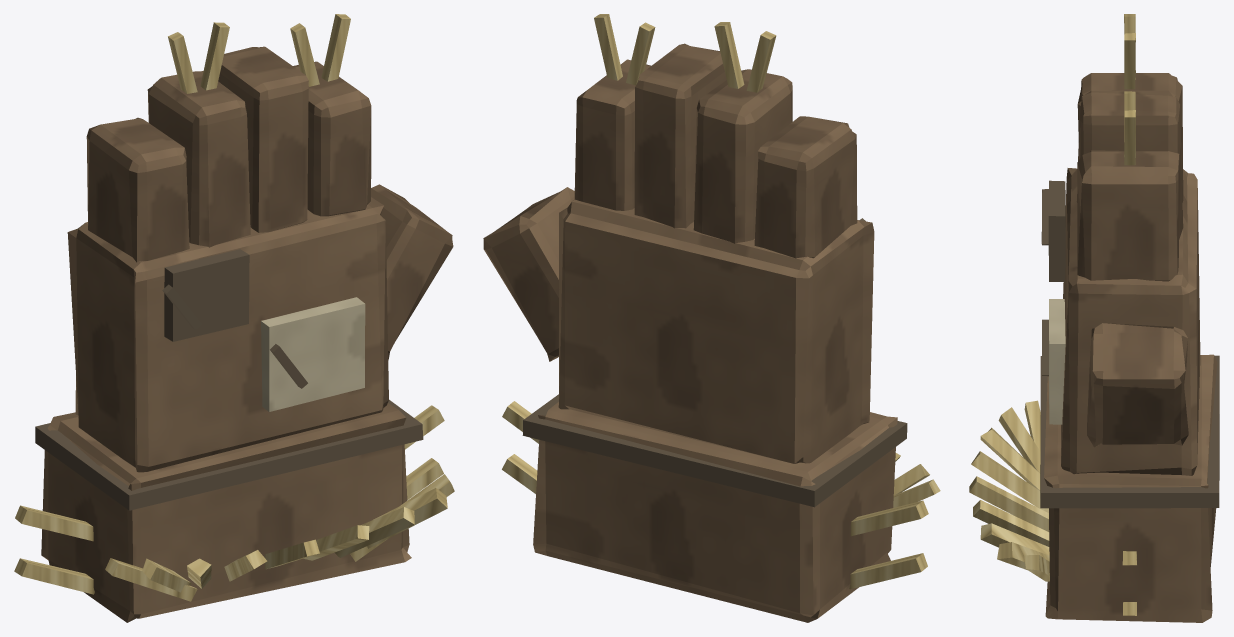
File: scarecrow_gloves.glb
3 renders of one model, left to right at view 1: azimuth 30°, elevation 25°; view 2: azimuth 150°, elevation 25°; view 3: azimuth 270°, elevation 25°, orthographic. The views are drawn at different scales.
Visible parts, largest first — view 1: ScarecrowGloves; view 2: ScarecrowGloves; view 3: ScarecrowGloves.
Part boxes in pixels (box(x1,y1,x2,y2)): ScarecrowGloves: box(14, 14, 454, 622); ScarecrowGloves: box(483, 14, 940, 622); ScarecrowGloves: box(969, 14, 1219, 622).
Size of the model in its own units: 0.4675 by 0.5769 by 0.2509.
Materials: 4 (3 with a texture image).
